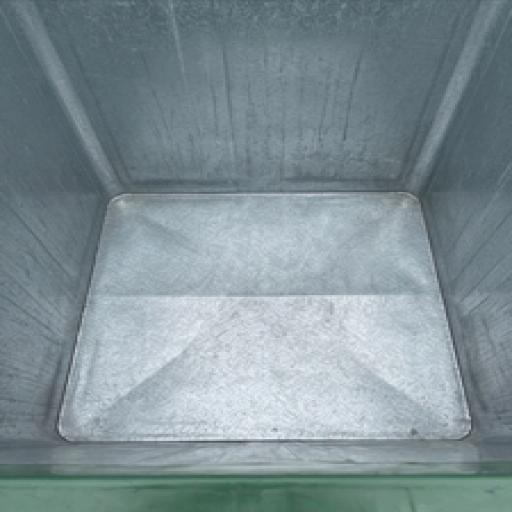Contenedor_Vacio: (0, 0, 510, 475)
